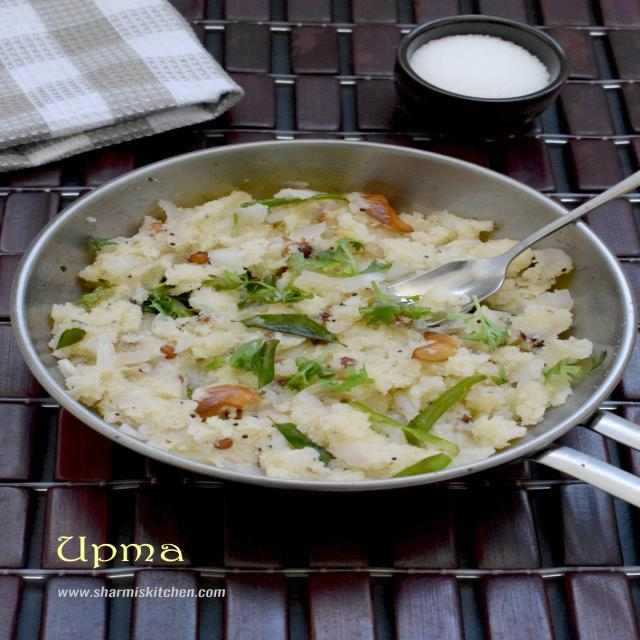UPMA: (42, 183, 592, 480)
